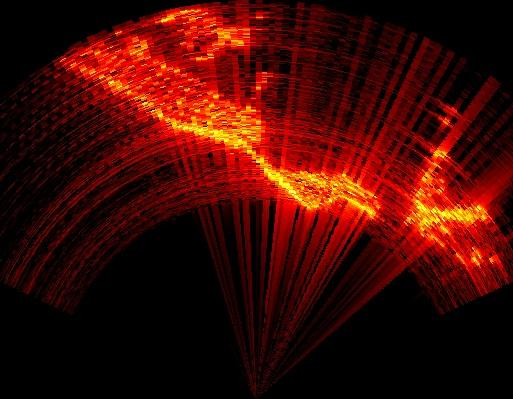shipwreck: (65, 5, 382, 215), (410, 198, 499, 239)
